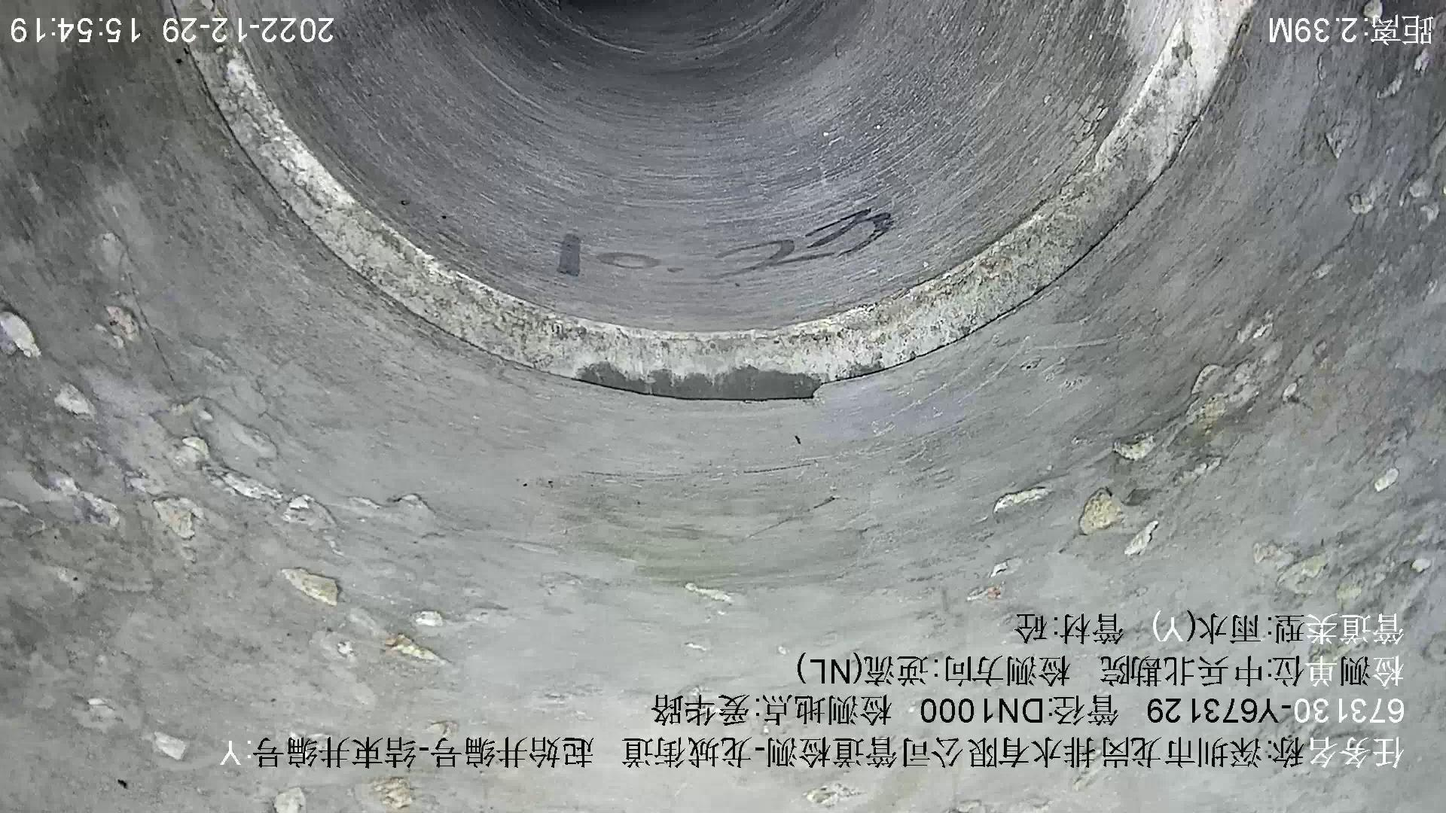CKTJ: (182, 3, 1250, 400)
